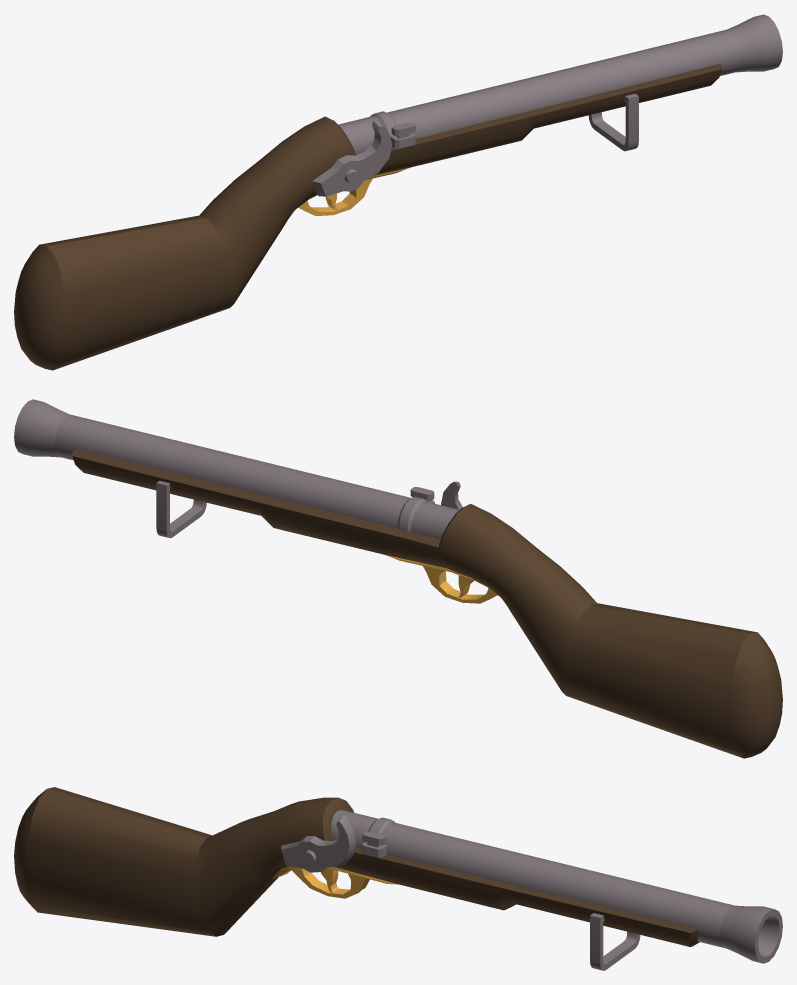
The model's file is Weapon_Rifle.glb.
3 renders of one model, top to bottom at view 1: azimuth 30°, elevation 25°; view 2: azimuth 150°, elevation 25°; view 3: azimuth 330°, elevation 25°, orthographic.
Visible parts, largest first — view 1: Weapon_Rifle; view 2: Weapon_Rifle; view 3: Weapon_Rifle.
Part boxes in pixels (x1,y1,x2,y2): Weapon_Rifle: [14, 14, 782, 370]; Weapon_Rifle: [14, 399, 782, 758]; Weapon_Rifle: [14, 787, 782, 970].
Size of the model in its own units: 2.9 by 0.6857 by 0.285.
1 material, 1 textured.
